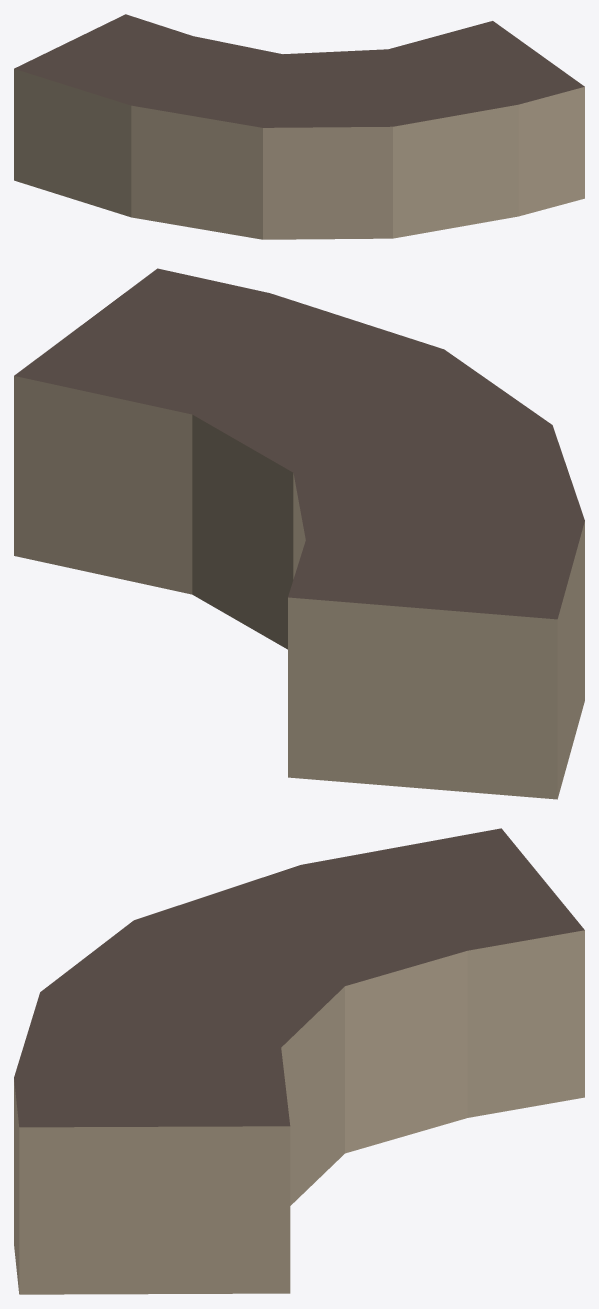
The picture shows the model from 3 angles, top to bottom: view 1: azimuth 30°, elevation 25°; view 2: azimuth 150°, elevation 25°; view 3: azimuth 270°, elevation 25°; orthographic projection. The views are drawn at different scales.
Visible parts, largest first — view 1: HP-w859078907; view 2: HP-w859078907; view 3: HP-w859078907.
Part boxes in pixels (<box>): HP-w859078907: <box>14,14,584,239</box>; HP-w859078907: <box>14,268,584,799</box>; HP-w859078907: <box>14,828,584,1294</box>.
Size of the model in its own units: 34.5 by 9 by 27.84.
